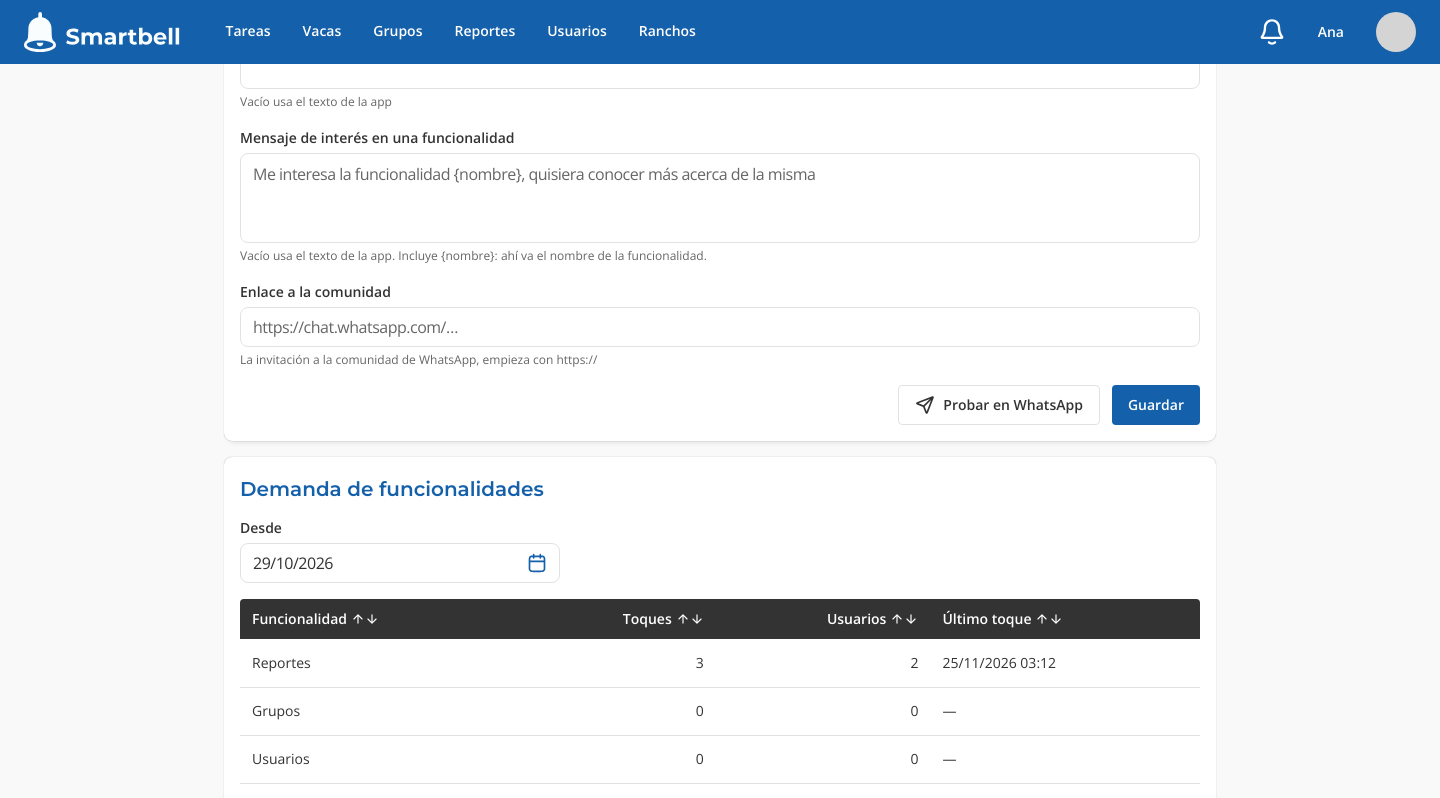
Test: Soporte form › says so when the save fails for another reason
(page scrolled)
What coordinates should you click on to do the following:
click the button "Guardar"
I would click on:
 (1156, 405)
Its box is [1112, 385, 1200, 425].
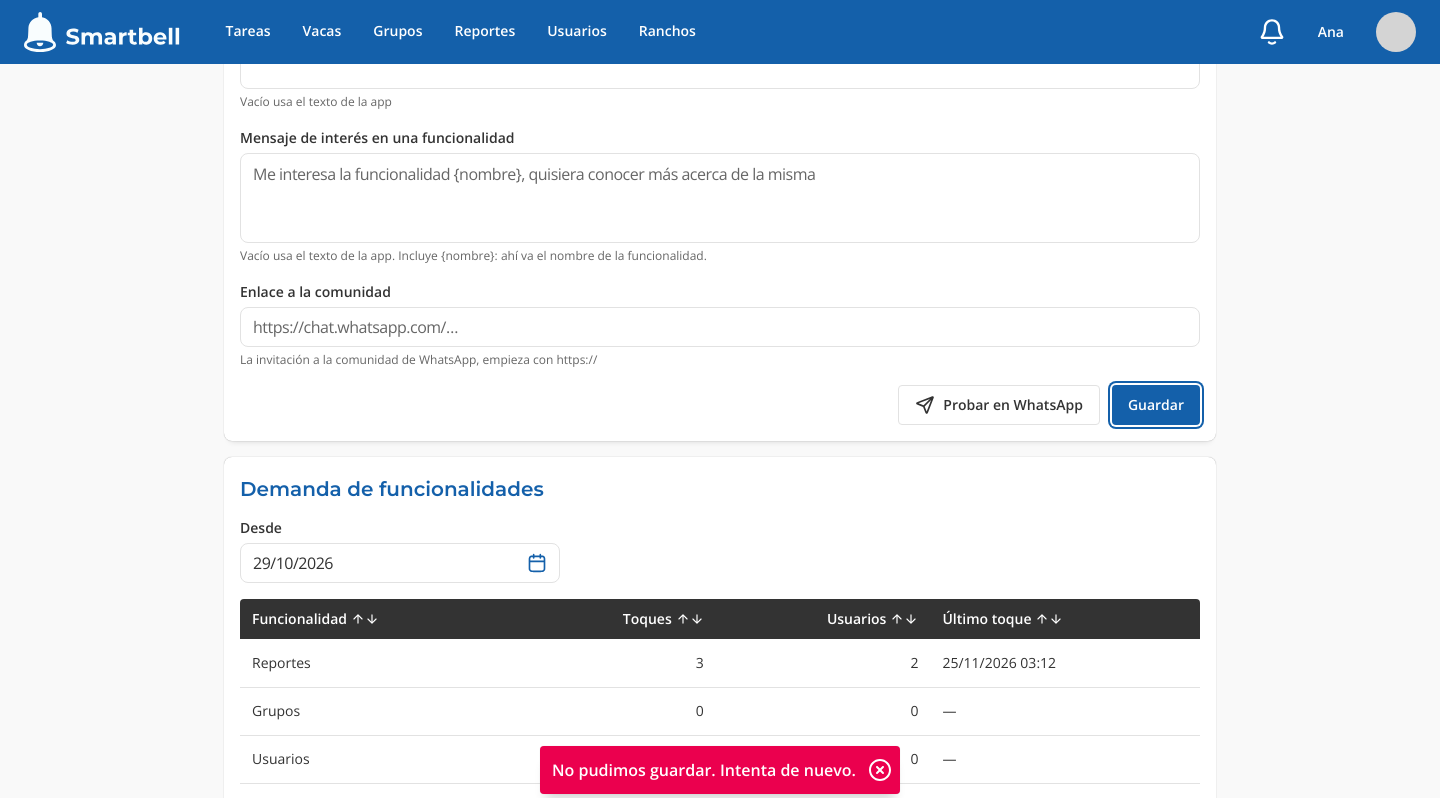
Result: the text "No pudimos guardar. Intenta de nuevo." is shown at [552, 758, 856, 782]
